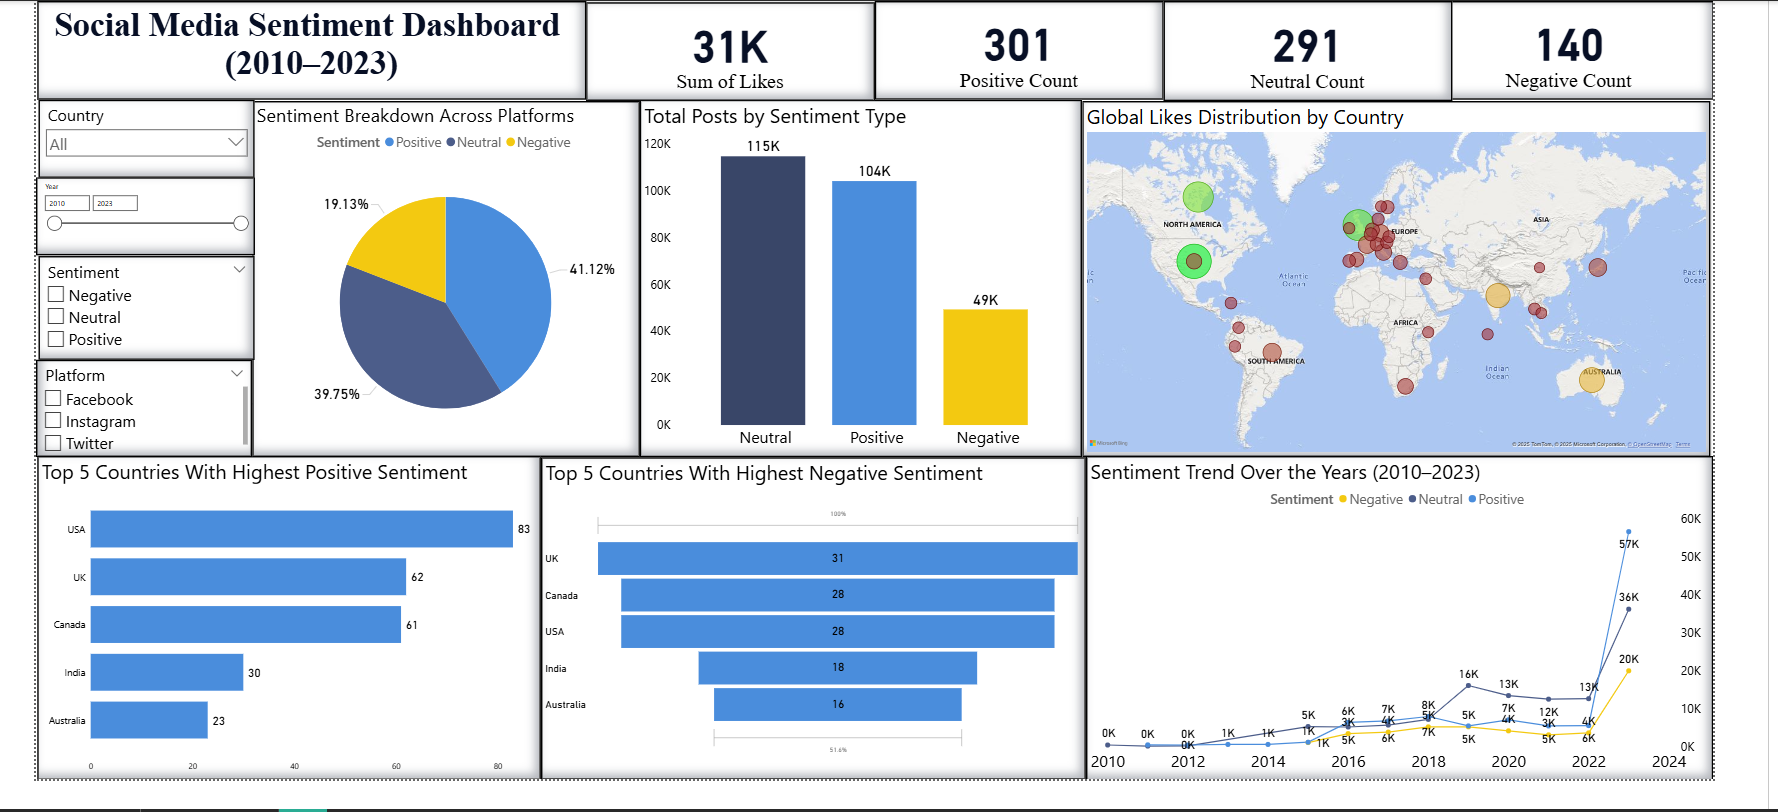

The dashboard page shown, as its layout file describes it:
{"tool":"powerbi","page":{"name":"Social Media","canvas":[2800,1300],"ordinal":0},"visuals":[{"type":"card","fields":{"Values":["sentimentdataset.Positive Count"]},"box":[1401.1,0,482.3,164.6],"z":0},{"type":"card","fields":{"Values":["sentimentdataset.Negative Count"]},"box":[2317.7,0,482.3,164.6],"z":1000},{"type":"card","fields":{"Values":["sentimentdataset.Neutral Count"]},"box":[1883.4,0,482.3,166.9],"z":2000},{"type":"clusteredColumnChart","title":"Total Posts by Sentiment Type","fields":{"Category":["sentimentdataset.Sentiment"],"Y":["Sum(sentimentdataset.SI No)"]},"box":[1008,164.9,738.8,596.9],"z":3000},{"type":"pieChart","title":"Sentiment Breakdown Across Platforms","fields":{"Category":["sentimentdataset.Sentiment"],"Y":["CountNonNull(sentimentdataset.Platform)"]},"box":[361,167,647,594.8],"z":4000},{"type":"map","title":"Global Likes Distribution by Country","fields":{"Category":["sentimentdataset.Country"],"Size":["Sum(sentimentdataset.Likes)"]},"box":[1746.3,166.9,1049.1,594.3],"z":5000},{"type":"clusteredBarChart","title":"Top 5 Countries With Highest Positive Sentiment","fields":{"Category":["sentimentdataset.Country"],"Y":["sentimentdataset.Positive Count"]},"box":[2.1,759.7,841,540.5],"z":6000},{"type":"funnel","title":"Top 5 Countries With Highest Negative Sentiment","fields":{"Category":["sentimentdataset.Country"],"Y":["sentimentdataset.Negative Count"]},"box":[843.1,761.7,909.9,538.4],"z":7000},{"type":"slicer","fields":{"Values":["sentimentdataset.Sentiment"]},"box":[4.6,425.1,361.1,173.7],"z":8000},{"type":"slicer","fields":{"Values":["sentimentdataset.Platform"]},"box":[0,598.9,361.1,162.3],"z":9000},{"type":"slicer","fields":{"Values":["sentimentdataset.Country"]},"box":[4.6,164.6,361.1,130.3],"z":10000},{"type":"card","fields":{"Values":["Sum(sentimentdataset.Likes)"]},"box":[918.9,2.3,482.3,164.6],"z":11000},{"type":"textbox","box":[2.3,0,916.6,164.6],"z":12000},{"type":"lineChart","title":"Sentiment Trend Over the Years (2010–2023)","fields":{"Series":["sentimentdataset.Sentiment"],"Category":["sentimentdataset.Year"],"Y2":["Sum(sentimentdataset.SI No)"]},"box":[1753.1,758.9,1046.9,541.7],"z":13000},{"type":"slicer","fields":{"Values":["sentimentdataset.Date.Variation.Date Hierarchy.Year"]},"box":[0,294.9,365.7,130.3],"z":14000}]}

Visuals, with their boxes in screenshot pixels (x1, y1, x2, y2), scaled from the page's 2800x1300 canvas onto the 1778x812 screenshot:
card - sentimentdataset.Positive Count: l=890, t=0, r=1196, b=103
card - sentimentdataset.Negative Count: l=1472, t=0, r=1777, b=103
card - sentimentdataset.Neutral Count: l=1196, t=0, r=1502, b=104
"Total Posts by Sentiment Type" clusteredColumnChart: l=640, t=103, r=1109, b=476
"Sentiment Breakdown Across Platforms" pieChart: l=229, t=104, r=640, b=476
"Global Likes Distribution by Country" map: l=1109, t=104, r=1775, b=475
"Top 5 Countries With Highest Positive Sentiment" clusteredBarChart: l=1, t=475, r=535, b=811
"Top 5 Countries With Highest Negative Sentiment" funnel: l=535, t=476, r=1113, b=811
slicer - sentimentdataset.Sentiment: l=3, t=266, r=232, b=374
slicer - sentimentdataset.Platform: l=0, t=374, r=229, b=475
slicer - sentimentdataset.Country: l=3, t=103, r=232, b=184
card - Sum(sentimentdataset.Likes): l=584, t=1, r=890, b=104
textbox: l=1, t=0, r=584, b=103
"Sentiment Trend Over the Years (2010–2023)" lineChart: l=1113, t=474, r=1777, b=811
slicer - sentimentdataset.Date.Variation.Date Hierarchy.Year: l=0, t=184, r=232, b=266
